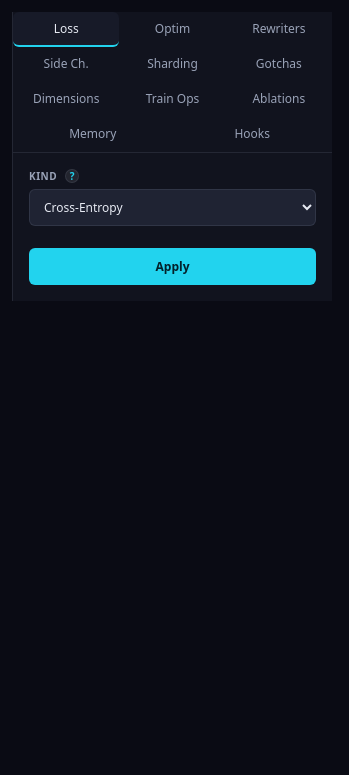
Test case: Sidebar › switches active tab on click
Click the tab with test id "sidebar-tab-optim": click(172, 30) x1=119 y1=12 x2=226 y2=47
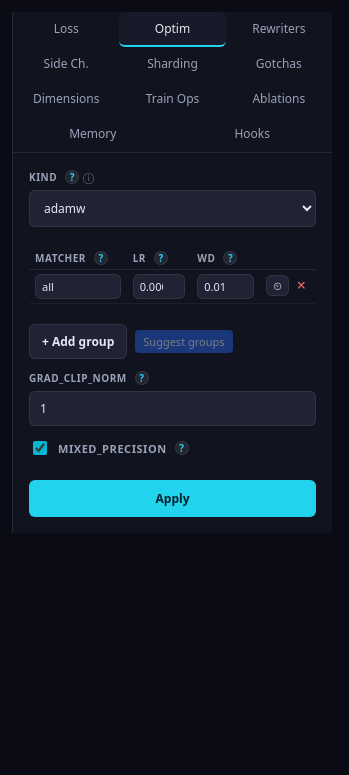
expect the element with test id "optim-tab" is shown: met, box x1=13 y1=153 x2=332 y2=533
Click the tab with test id "sidebar-tab-side_channels": click(66, 64) x1=13 y1=47 x2=119 y2=82
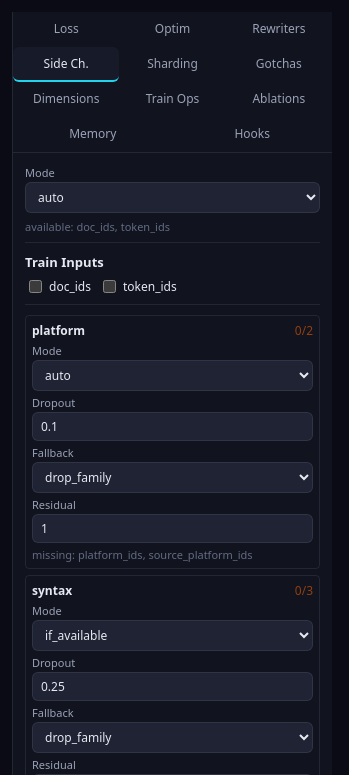
Click the tab with test id "sidebar-tab-gotchas": click(279, 64) x1=226 y1=47 x2=332 y2=82
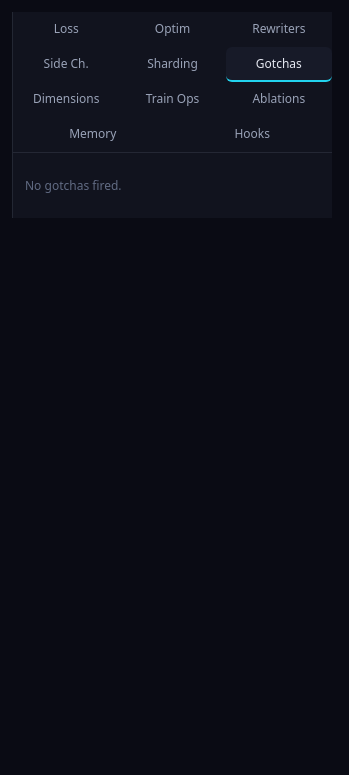
expect the element with test id "gotchas-tab" is shown: met, box x1=25 y1=177 x2=122 y2=194
